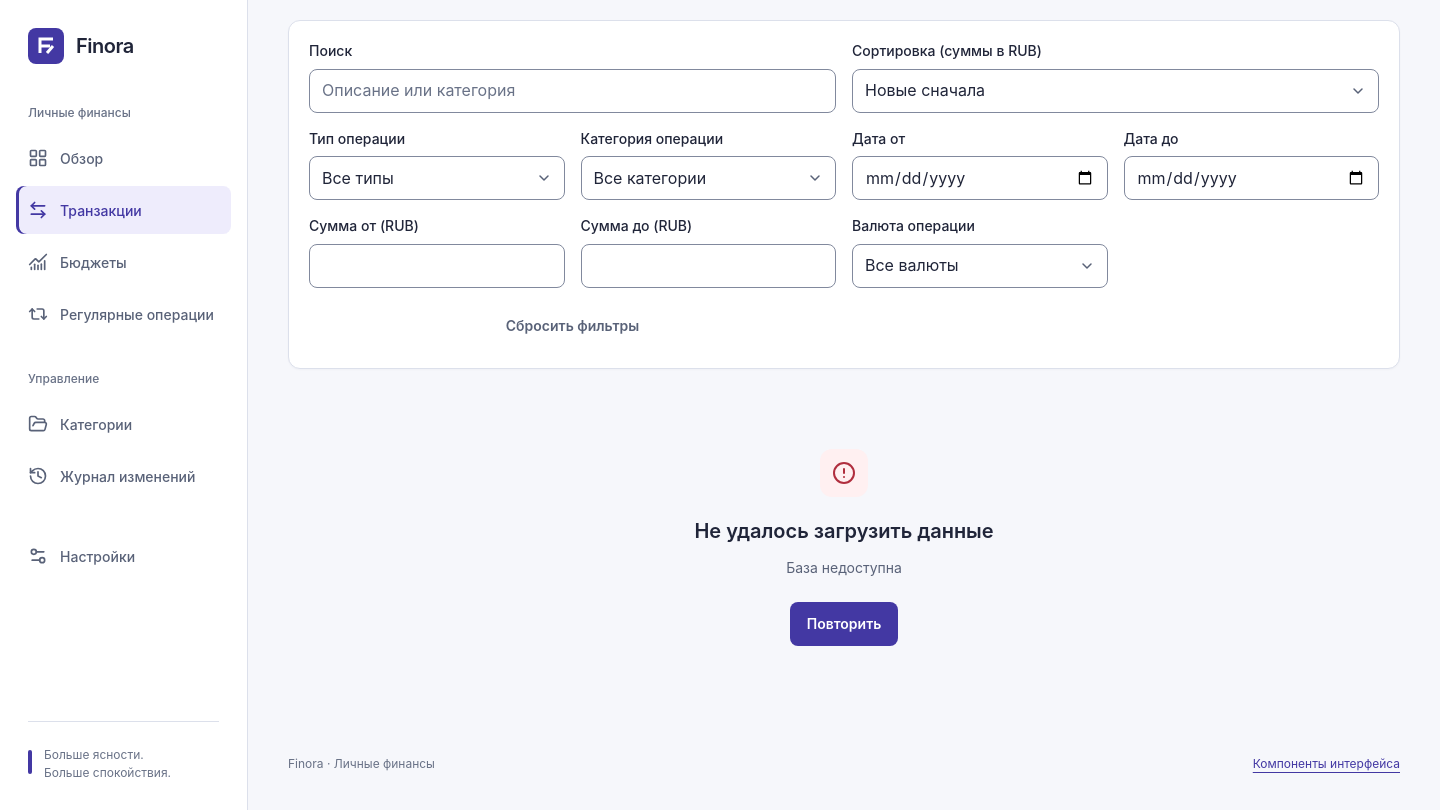
Test: Список: loading, ошибка и retry, затем populated
The width and height of the screenshot is (1440, 810).
(page scrolled)
Expected: the message "Не удалось загрузить данные База недоступна Повторить" is shown, [694,449,994,646]
Click the button "Повторить".
click(844, 624)  # box [790,602,898,646]
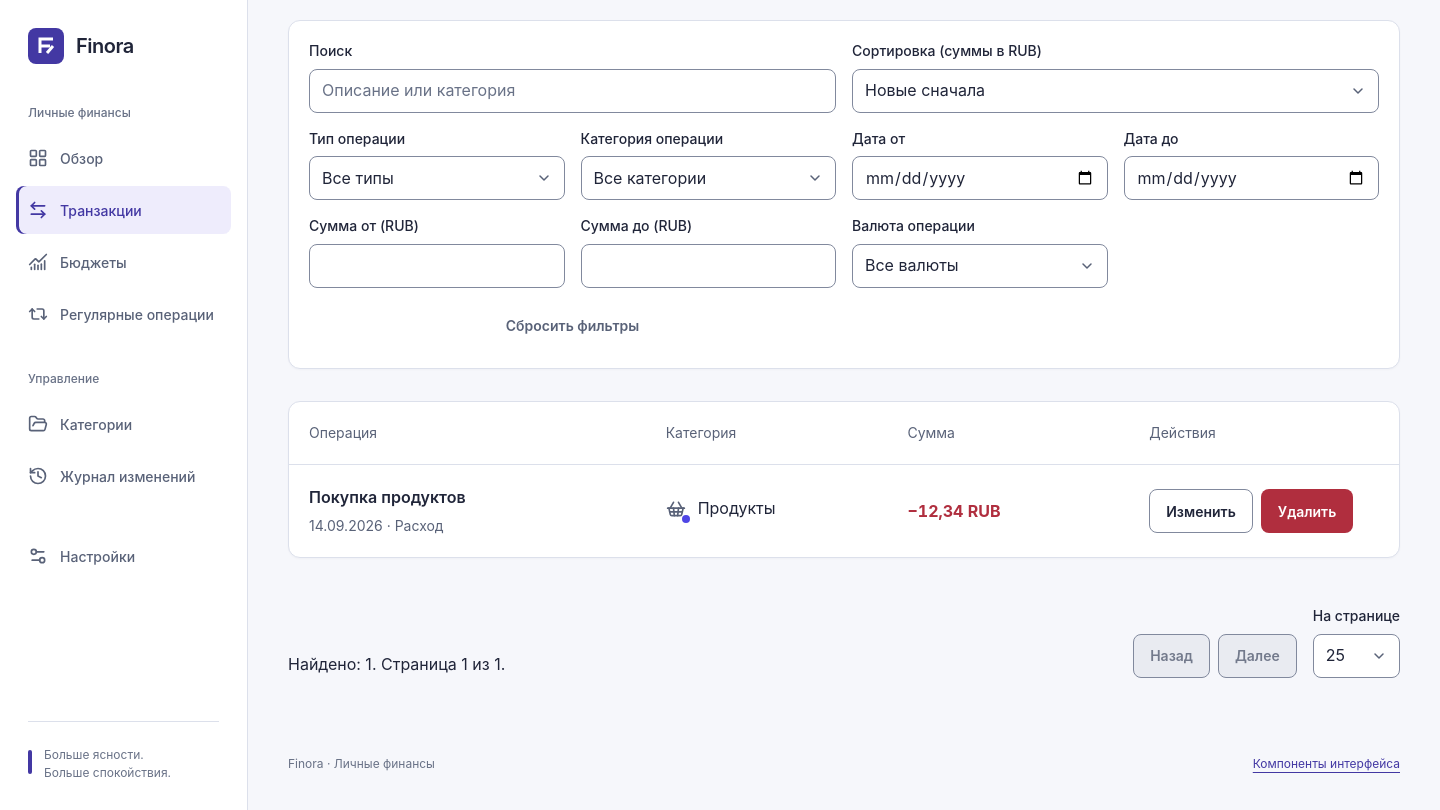
Now the text "Покупка продуктов" is shown, box [309,487,466,507]
